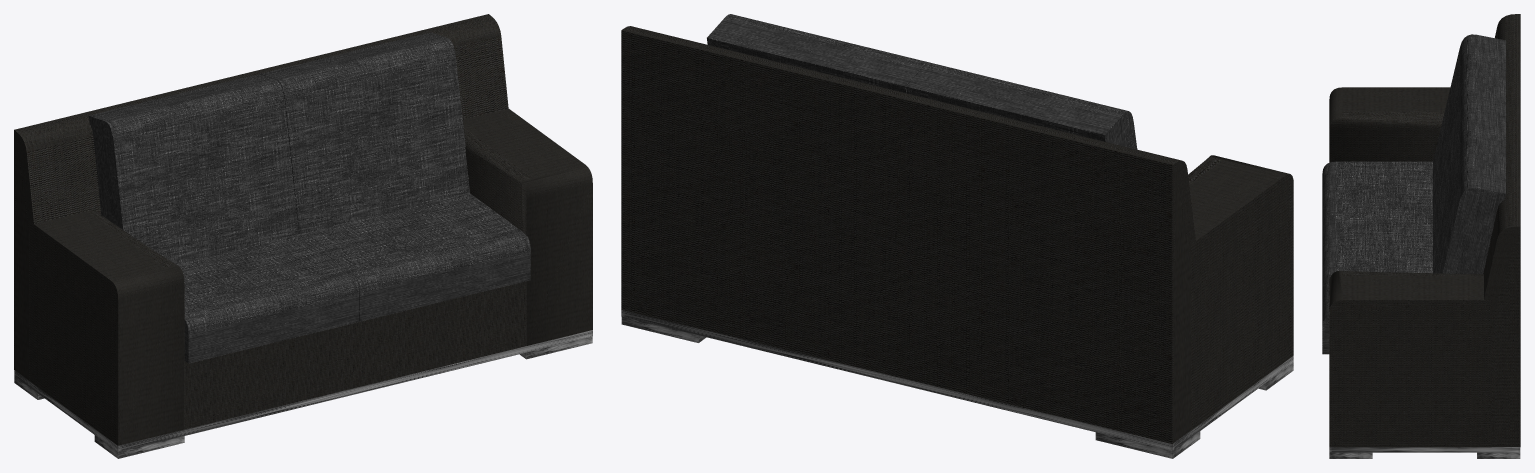
Rendered from Sofa.FBX.
3 views of the same model, side by side, from view 1: azimuth 30°, elevation 25°; view 2: azimuth 150°, elevation 25°; view 3: azimuth 270°, elevation 25° (orthographic). The views are drawn at different scales.
Visible parts, largest first — view 1: Box012, Box001, Box013, Box008, Box002, Box011, Box009, Box010, Box003, Box004; view 2: Box009, Box001, Box012, Box013, Box003, Box005, Box007; view 3: Box002, Box009, Box013, Box010, Box001, Box012, Box011, Box003, Box006, Box007.
Part boxes in pixels (x1,y1,x2,y2): Box012: (88,74,299,264); Box001: (29,210,184,445); Box013: (260,32,469,234); Box008: (184,281,526,429); Box002: (463,108,592,345); Box011: (299,193,530,321); Box009: (14,14,508,380); Box010: (177,235,359,363); Box003: (14,330,592,451); Box004: (94,435,184,458); Box009: (621,26,1195,444); Box001: (1188,155,1293,430); Box012: (906,62,1137,149); Box013: (707,14,929,93); Box003: (621,310,1293,450); Box005: (1095,431,1200,458); Box007: (621,316,706,342); Box002: (1329,271,1491,447); Box009: (1483,14,1520,446); Box013: (1433,111,1505,274); Box010: (1322,161,1432,249); Box001: (1329,87,1450,162); Box012: (1433,34,1505,237); Box011: (1322,238,1432,354); Box003: (1329,447,1520,452); Box006: (1329,452,1372,458); Box007: (1477,452,1520,458).
Size of the model in its own units: 93.02 by 49.3 by 36.62.
Materials: 3 (3 with a texture image).
